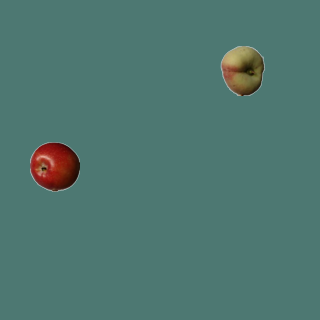Apple Braeburn: (29, 141, 79, 191)
Peach Flat: (217, 45, 267, 95)
